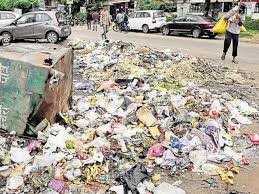garbage: (80, 58, 230, 194), (128, 72, 259, 192), (1, 130, 228, 194), (73, 41, 162, 194)
